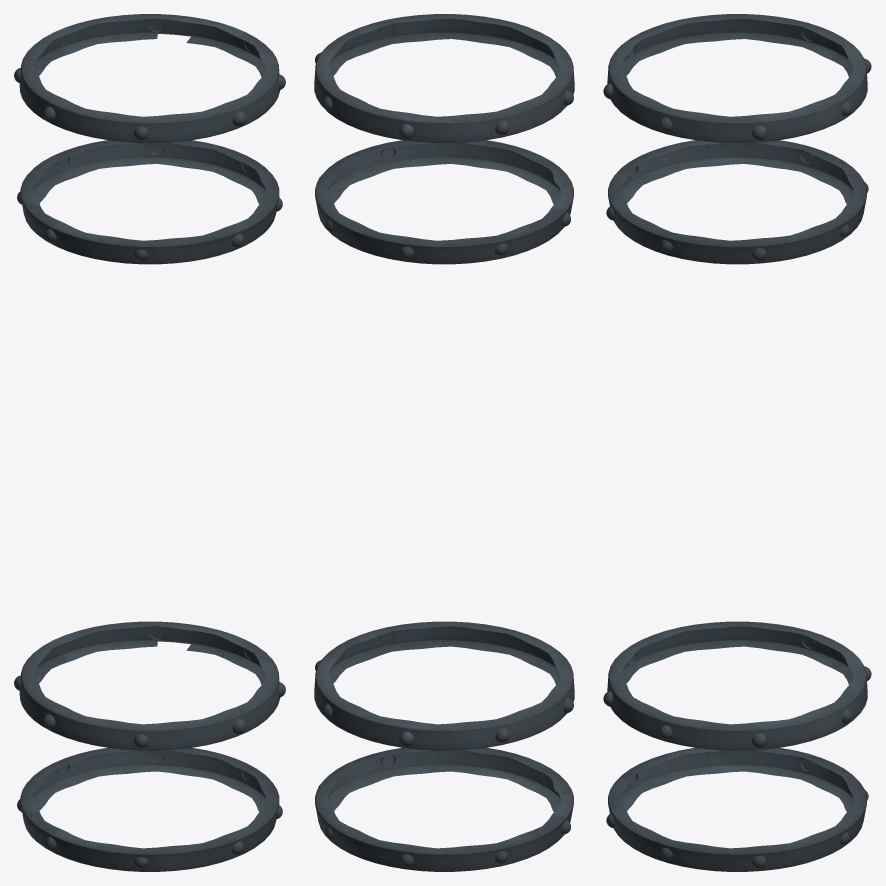
Rendered from water tank_metal.fbx.
3 renders of one model, left to right at view 1: azimuth 30°, elevation 25°; view 2: azimuth 150°, elevation 25°; view 3: azimuth 270°, elevation 25°, orthographic.
Parts seen in each view (by area): view 1: Cylinder.014; view 2: Cylinder.014; view 3: Cylinder.014.
Boxes of the visible parts, x1=… form: Cylinder.014: x1=14, y1=14, x2=285, y2=871; Cylinder.014: x1=314, y1=14, x2=574, y2=871; Cylinder.014: x1=603, y1=14, x2=871, y2=871.
Bounding box in the file's own units: 3.65 × 11.17 × 3.61.
